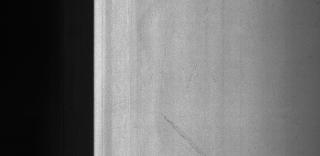water spot: (160, 110, 220, 156)
